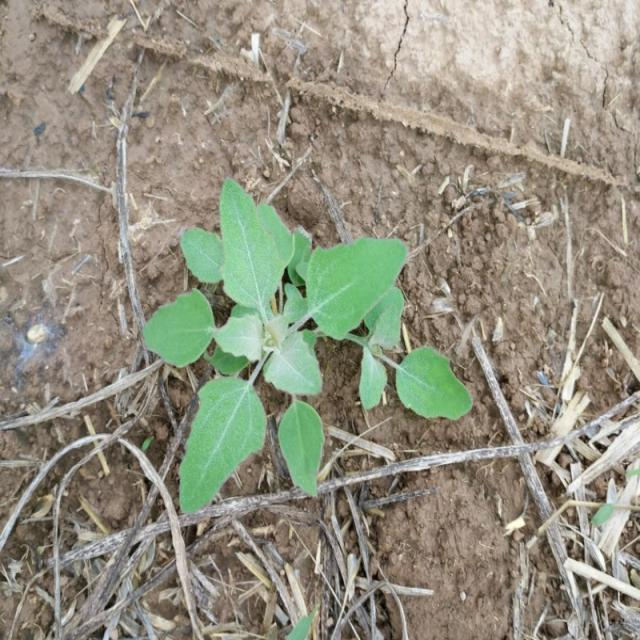goosefoots: (140, 175, 442, 490)
